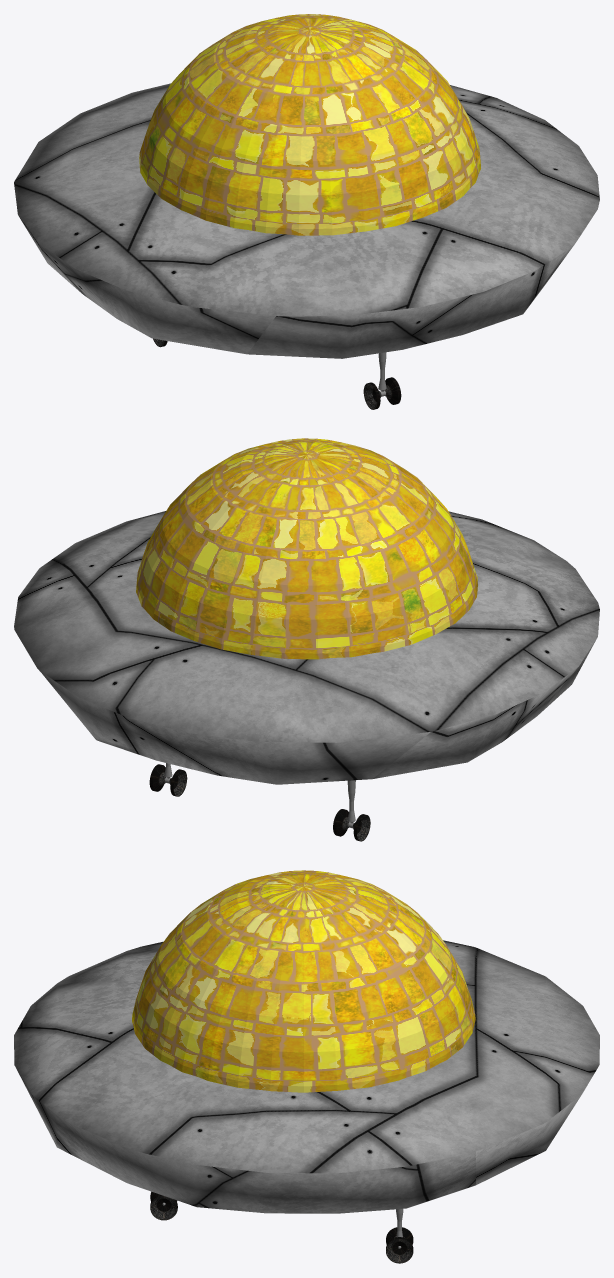
The model's file is Nave.glb.
The picture shows the model from 3 angles, top to bottom: view 1: azimuth 30°, elevation 25°; view 2: azimuth 150°, elevation 25°; view 3: azimuth 270°, elevation 25°; orthographic projection.
Parts seen in each view (by area): view 1: Cylinder.003; view 2: Cylinder.003; view 3: Cylinder.003.
Boxes of the visible parts, box(x1,y1,x2,y2) form: Cylinder.003: box(14, 14, 599, 409); Cylinder.003: box(14, 438, 599, 841); Cylinder.003: box(14, 870, 599, 1263).
Size of the model in its own units: 3.36 by 2.06 by 3.35.
Materials: 8 (5 with a texture image).
